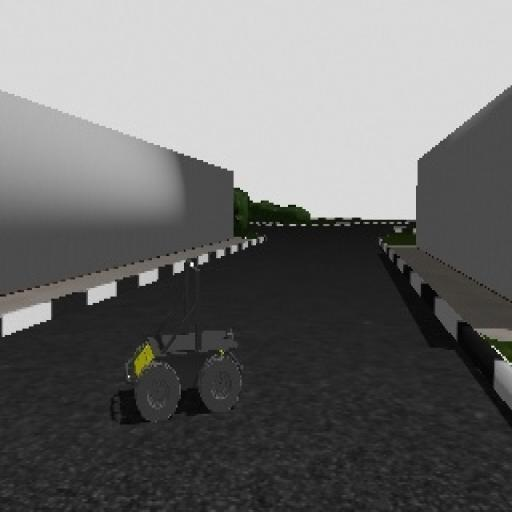huskya200: (119, 255, 249, 438)
